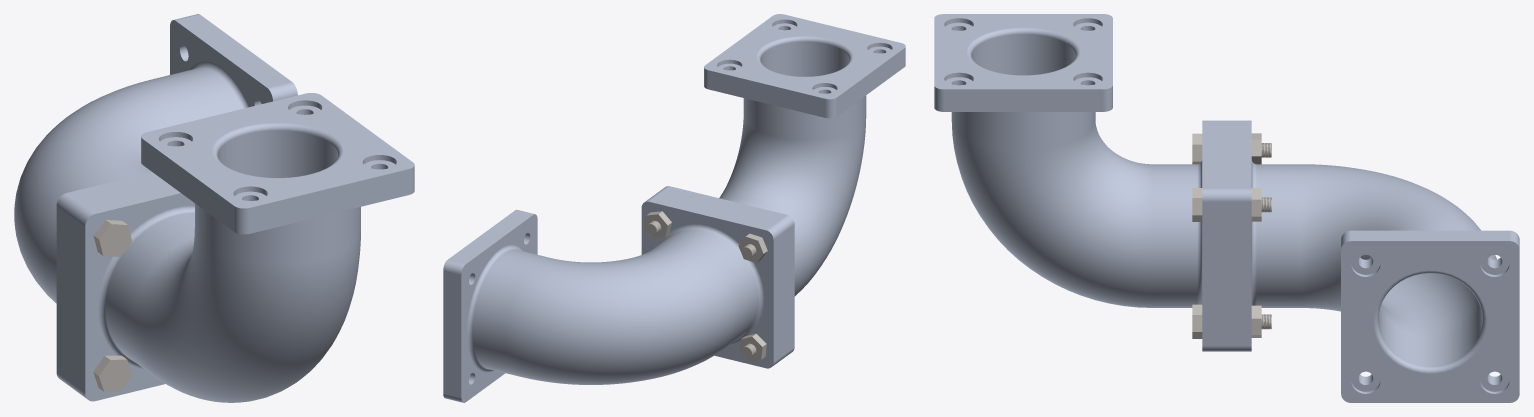
The model's file is sldasm3_curvedPipe.fbx.
3 views of the same model, side by side, from view 1: azimuth 30°, elevation 25°; view 2: azimuth 150°, elevation 25°; view 3: azimuth 270°, elevation 25° (orthographic). The views are drawn at different scales.
Parts seen in each view (by area): view 1: Pipe (×2), Bolt (×2); view 2: Pipe (×2), Nut (×3); view 3: Pipe (×2), Bolt (×2).
Part boxes in pixels (x1,y1,x2,y2): Pipe (×2): (14, 14, 414, 402); Bolt (×2): (93, 220, 132, 391); Pipe (×2): (443, 14, 905, 402); Nut (×3): (643, 211, 767, 362); Pipe (×2): (934, 14, 1519, 402); Bolt (×2): (1192, 188, 1271, 338).
Bounding box in the file's own units: 59 × 59 × 118.
